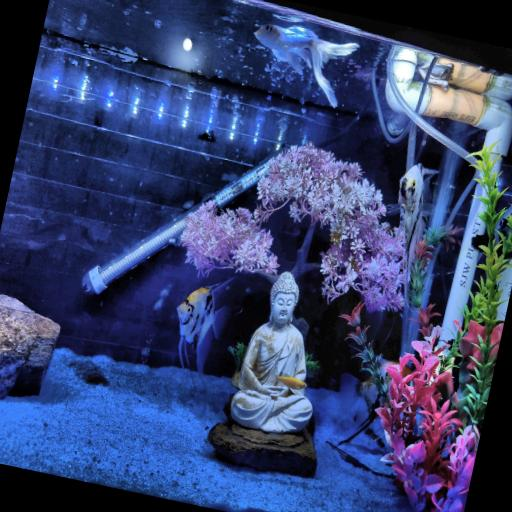Fish: (255, 25, 359, 106), (398, 164, 438, 283), (178, 286, 220, 376), (339, 374, 384, 446), (340, 374, 380, 420), (277, 376, 307, 390)
